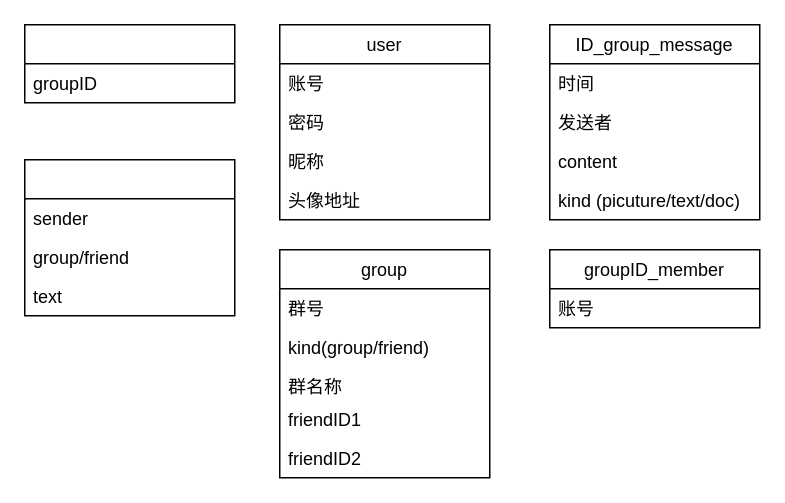
Image size: 785x503. Some labels were removed from this diagram. Here are the shapes that lost their labels. From the top down, the box of each, then its label:
(23, 23, 235, 103): userID_group
(23, 158, 235, 316): userID_request
